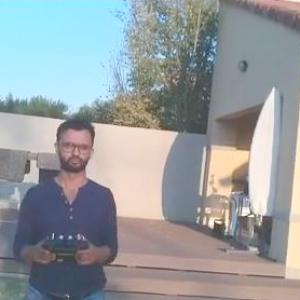follow: (10, 105, 128, 299)
